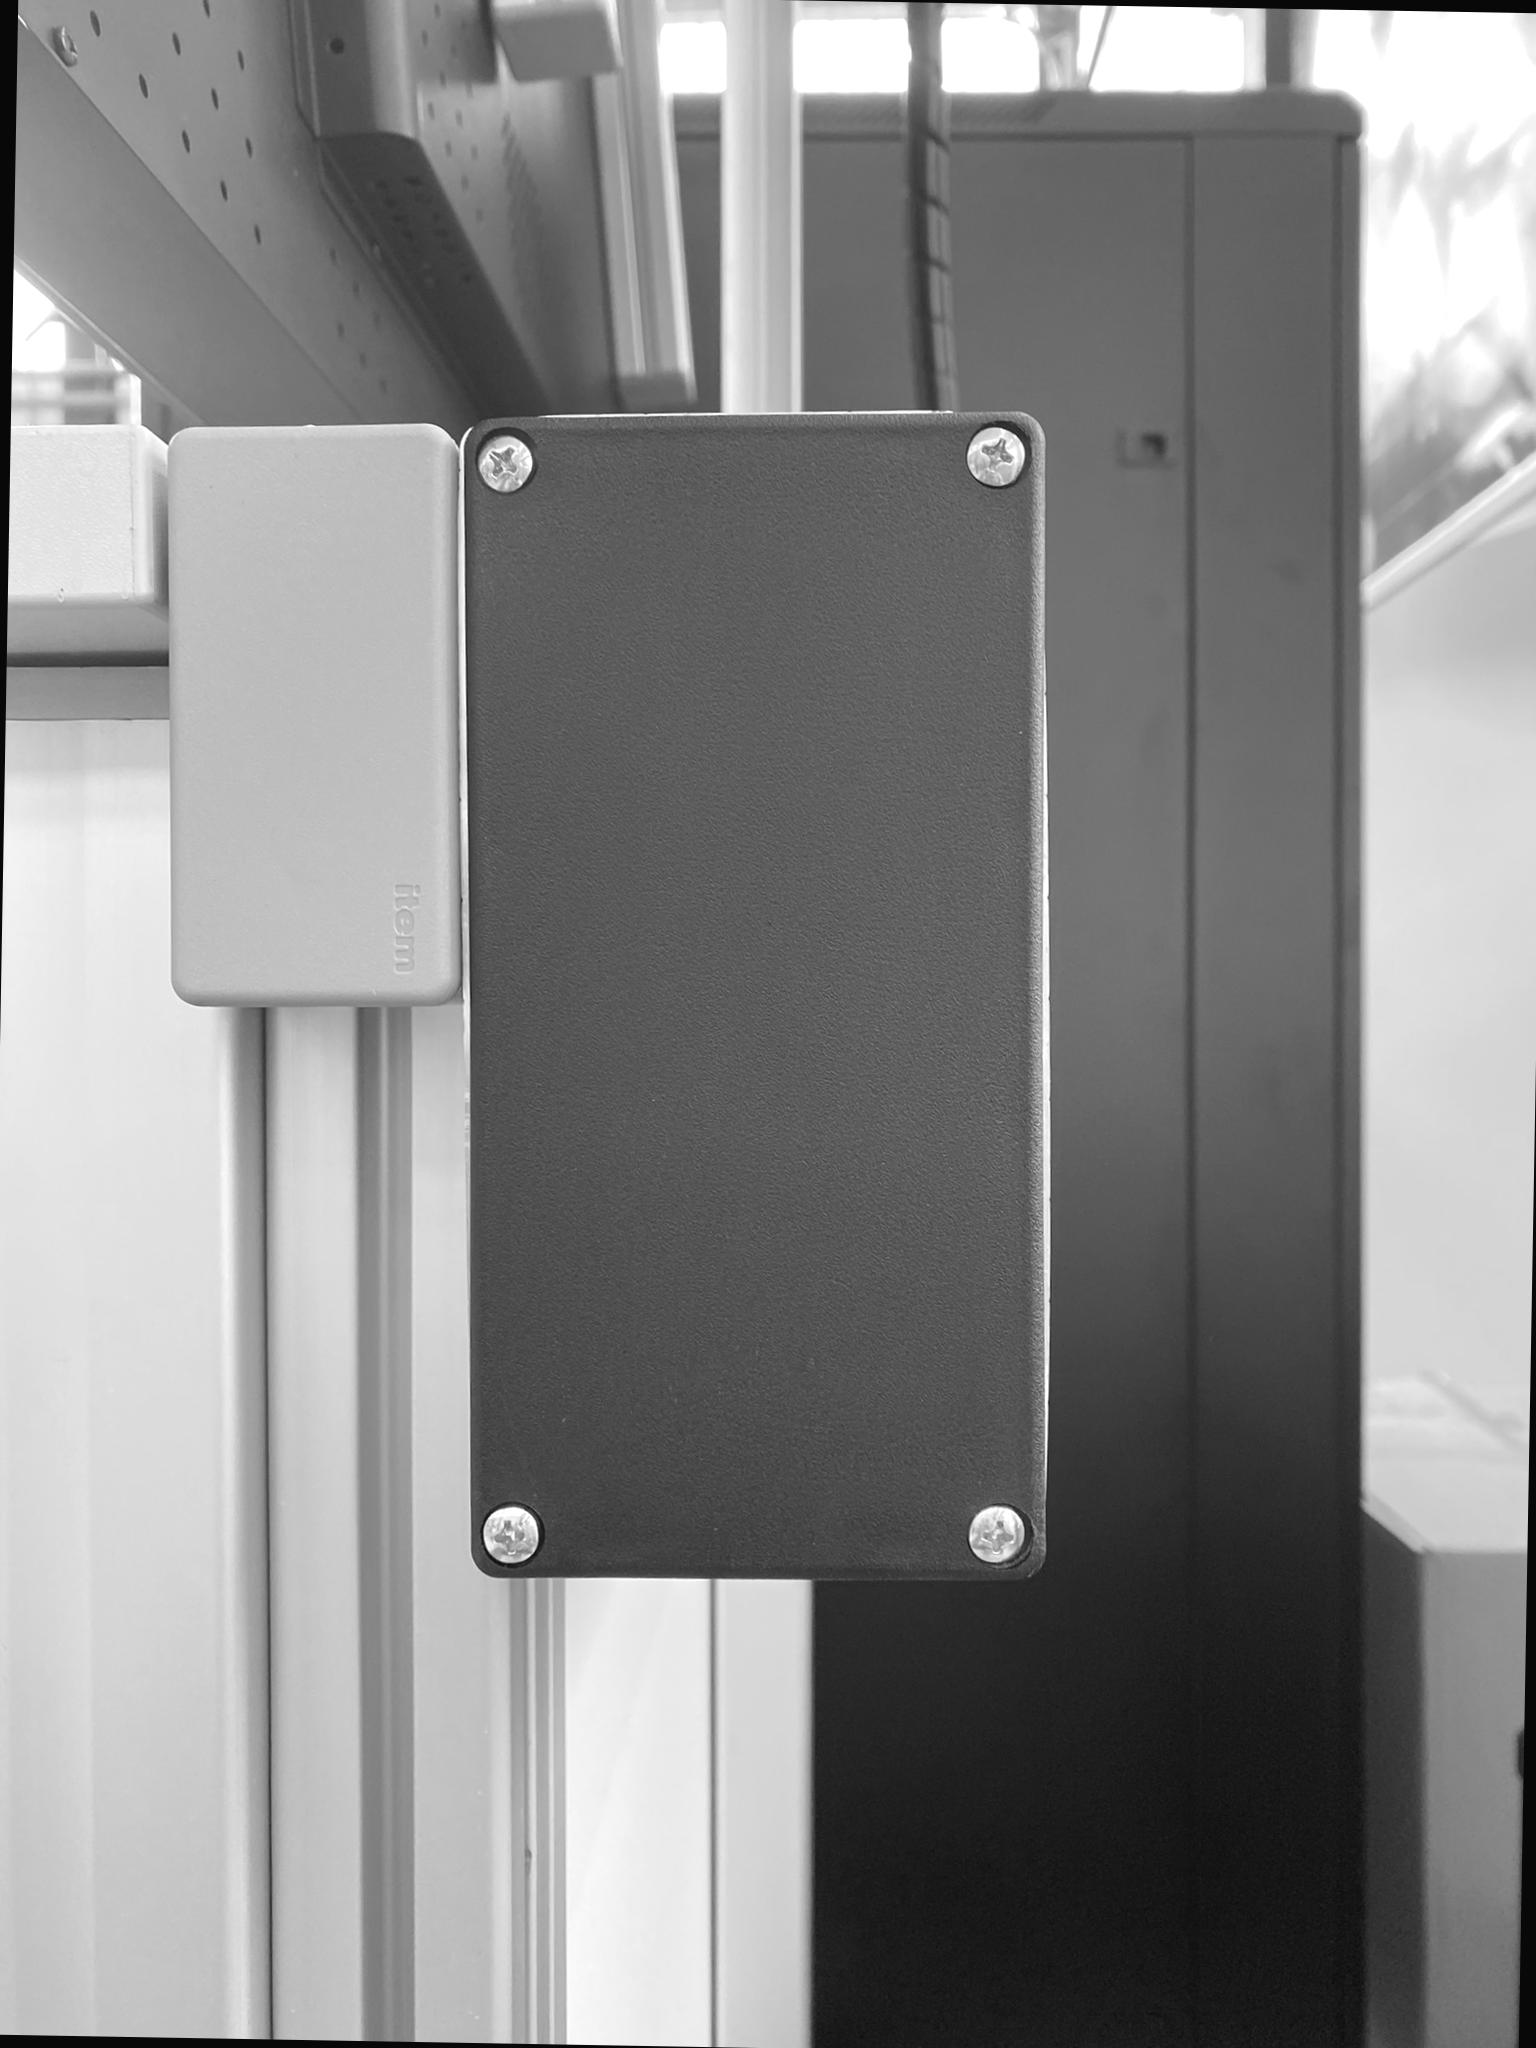screw: (479, 1505, 542, 1566), (966, 1503, 1029, 1564), (965, 427, 1026, 484), (478, 435, 534, 493)
